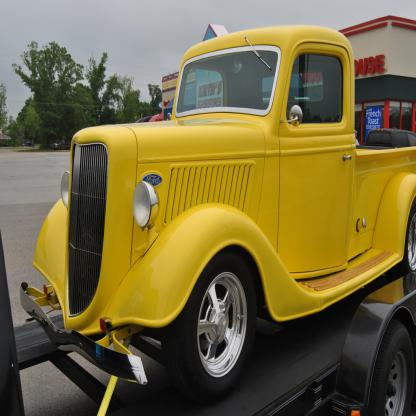Truck: (20, 26, 416, 390)
